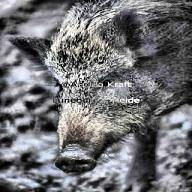boar: (4, 0, 191, 191)
